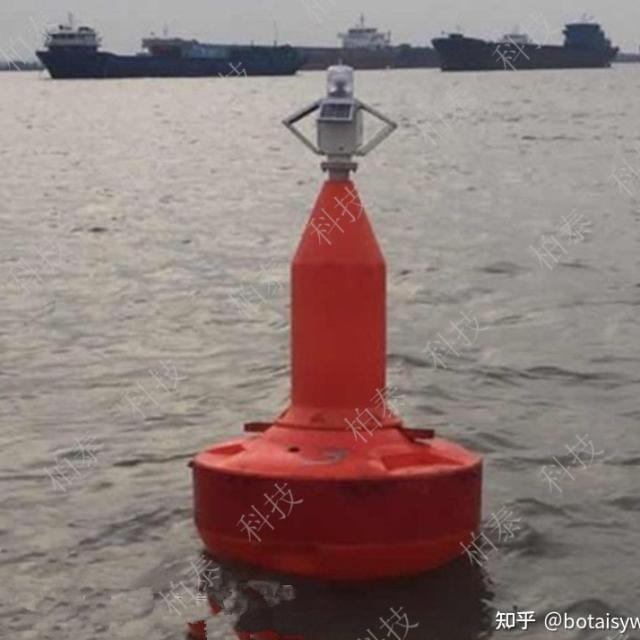buoy: (191, 58, 488, 570)
